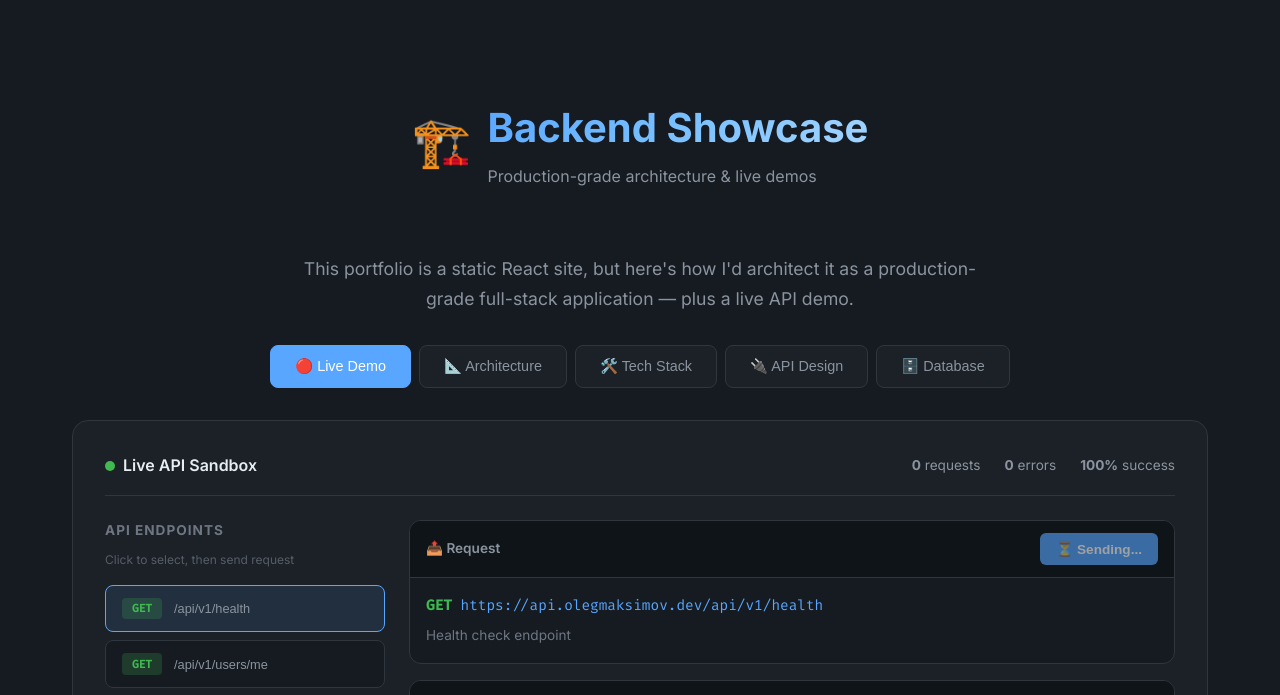
Scenario: Architecture Component › switches to Database tab when clicked
Click the tab "🗄️ Database".
click(943, 367)  # box [876,345,1010,388]
(page scrolled)
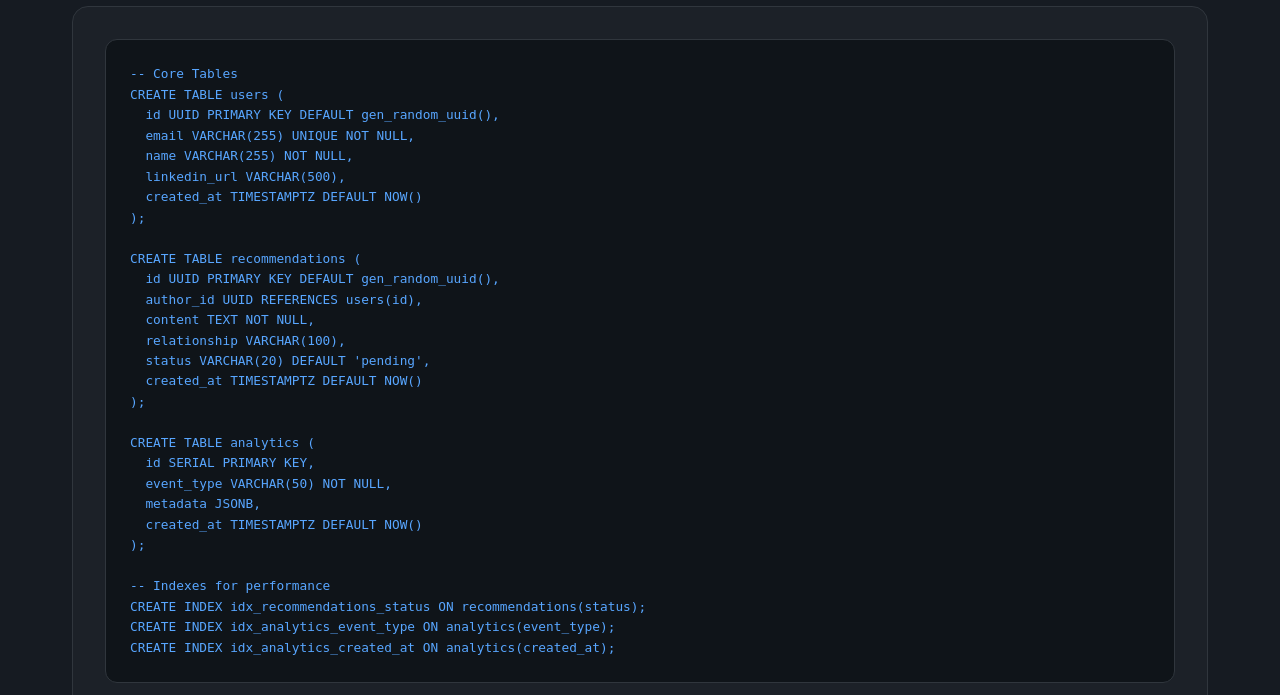
Result: the text "CREATE TABLE" is shown at [130,66,646,654]
